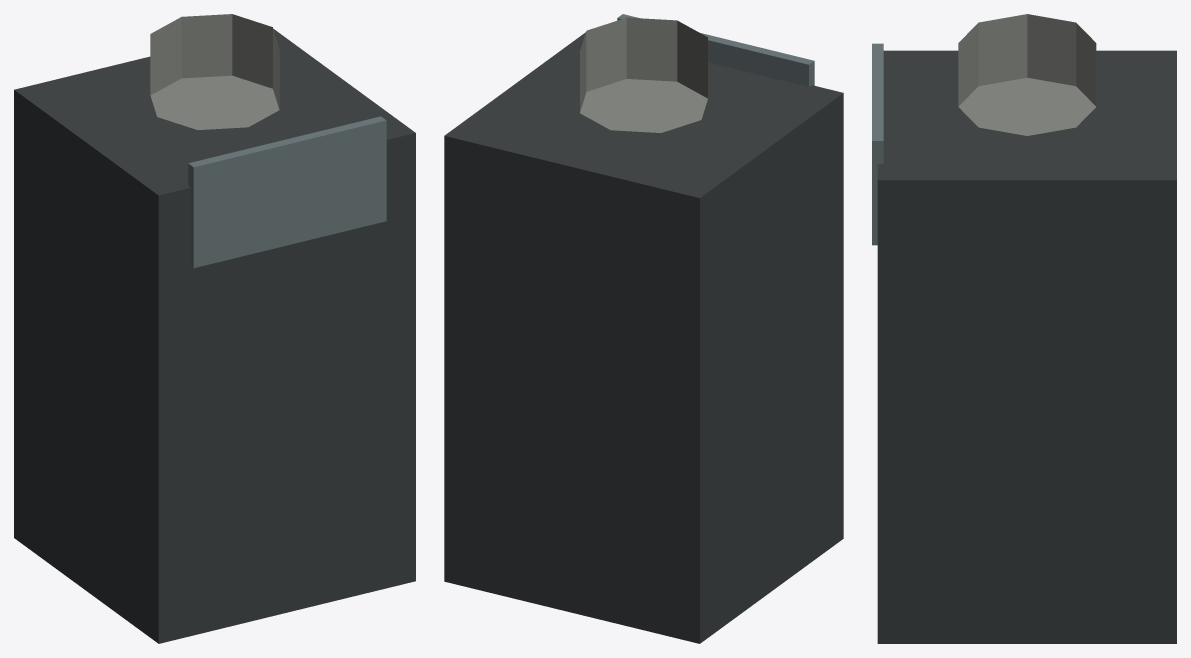
Rendered from water_butt.glb.
The picture shows the model from 3 angles, left to right: view 1: azimuth 30°, elevation 25°; view 2: azimuth 150°, elevation 25°; view 3: azimuth 270°, elevation 25°; orthographic projection. The views are drawn at different scales.
Visible parts, largest first — view 1: body; view 2: body; view 3: body.
Part boxes in pixels (x1,y1,x2,y2): body: [14, 14, 415, 643]; body: [444, 14, 843, 643]; body: [872, 14, 1176, 643].
Bounding box in the file's own units: 0.48 × 0.925 × 0.477.
Materials: 1 (1 with a texture image).
